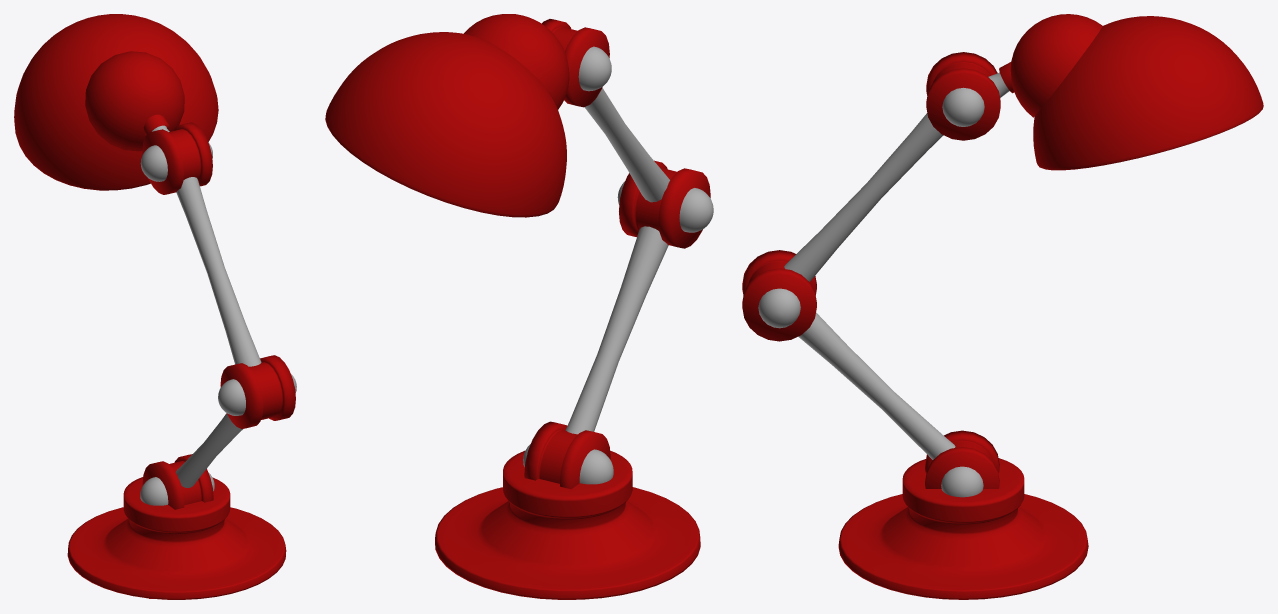
The model's file is lamp_table.fbx.
3 renders of one model, left to right at view 1: azimuth 30°, elevation 25°; view 2: azimuth 150°, elevation 25°; view 3: azimuth 270°, elevation 25°, orthographic. The views are drawn at different scales.
Visible parts, largest first — view 1: pCylinder64; view 2: pCylinder64; view 3: pCylinder64.
Boxes of the visible parts, x1,y1,x2,y2 form: pCylinder64: (14,14,296,599); pCylinder64: (325,14,713,599); pCylinder64: (742,14,1263,599).
Bounding box in the file's own units: 0.227 × 0.502 × 0.4444.
